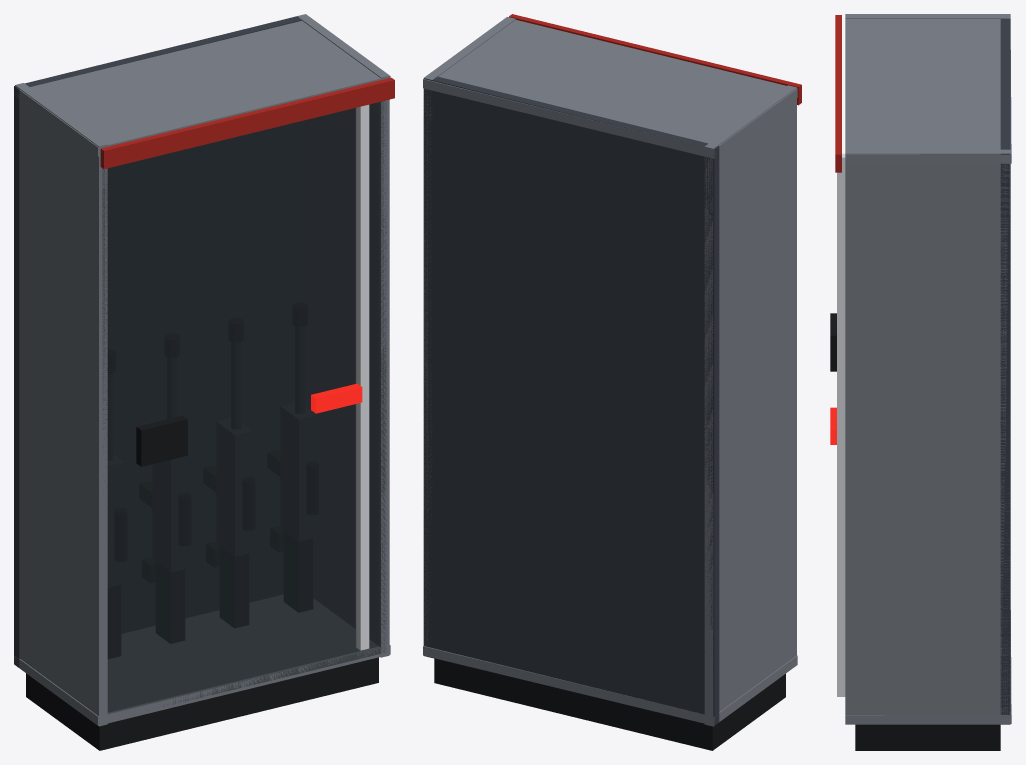
Rendered from weaponrack_rifle_locker.glb.
3 views of the same model, side by side, from view 1: azimuth 30°, elevation 25°; view 2: azimuth 150°, elevation 25°; view 3: azimuth 270°, elevation 25° (orthographic).
Parts seen in each view (by area): view 1: weaponrack_rifle_locker; view 2: weaponrack_rifle_locker; view 3: weaponrack_rifle_locker.
Part boxes in pixels (bbox=[...]): weaponrack_rifle_locker: bbox=[14, 14, 394, 750]; weaponrack_rifle_locker: bbox=[423, 14, 801, 750]; weaponrack_rifle_locker: bbox=[830, 14, 1011, 750].
Size of the model in its own units: 1.01 by 2 by 0.548.
